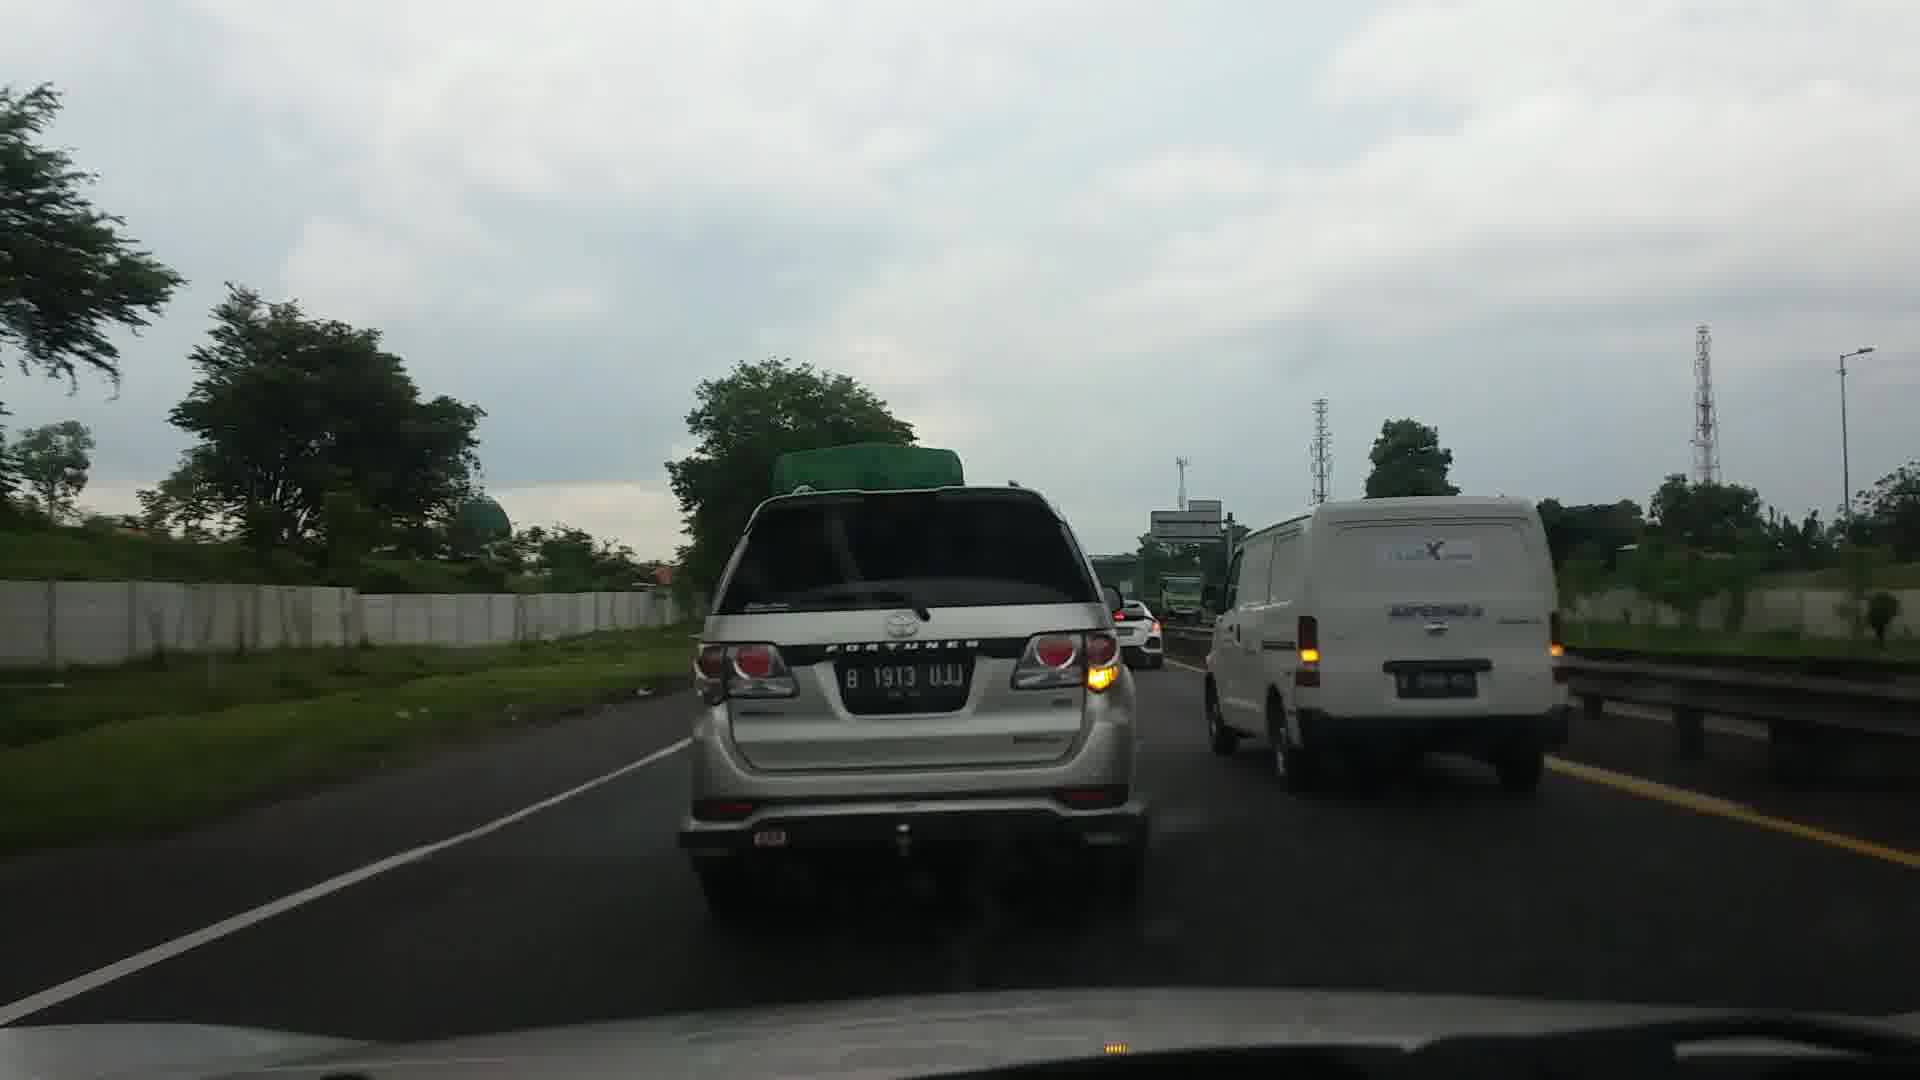plate_positive: (843, 659, 967, 702)
